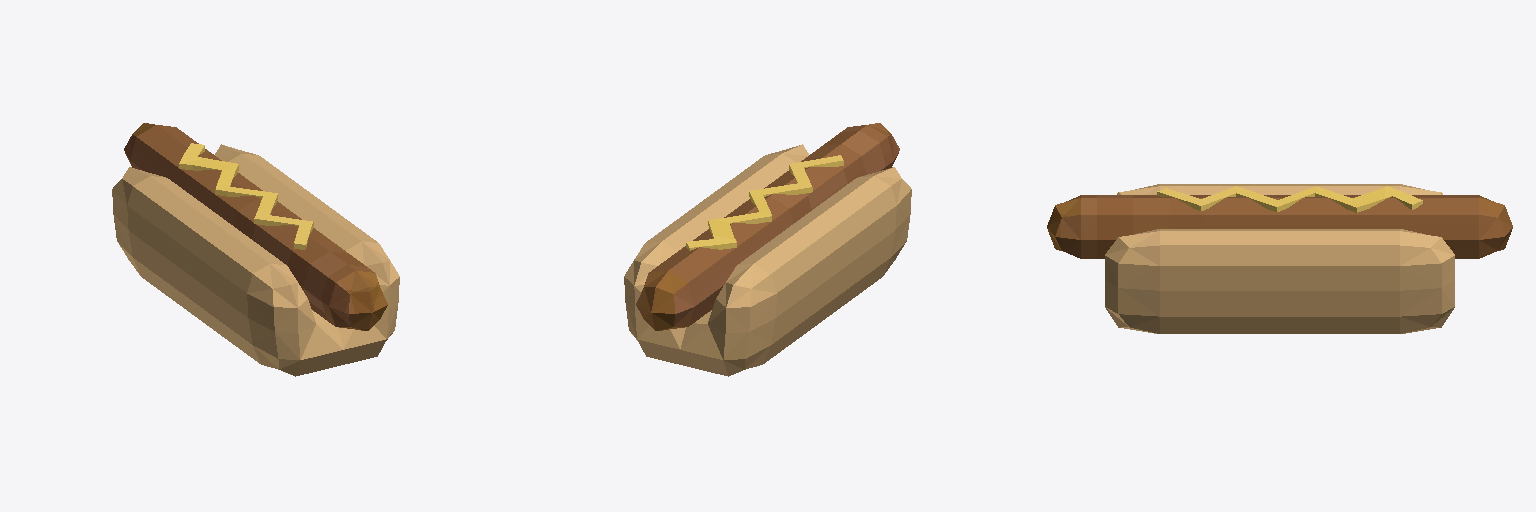
3 views of the same model, side by side, from view 1: azimuth 30°, elevation 25°; view 2: azimuth 150°, elevation 25°; view 3: azimuth 270°, elevation 25° (orthographic).
Parts seen in each view (by area): view 1: Cube.016_Cube.026; view 2: Cube.016_Cube.026; view 3: Cube.016_Cube.026.
Boxes of the visible parts, <box> form: Cube.016_Cube.026: <box>112,123,399,376</box>; Cube.016_Cube.026: <box>624,123,911,376</box>; Cube.016_Cube.026: <box>1047,184,1512,333</box>.
Bounding box in the file's own units: 0.4743 × 0.3865 × 1.39.
1 materials, 1 textured.